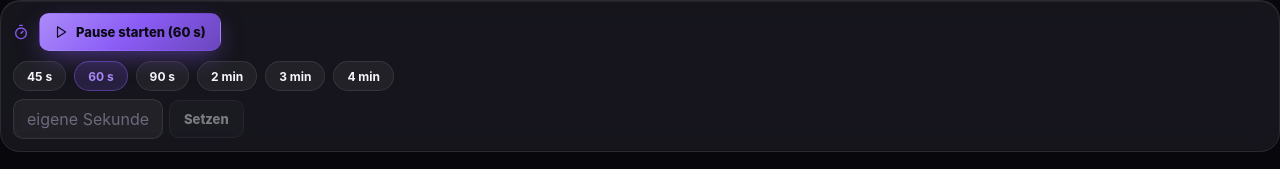
Test: RestTimer — adjustable pauses › can be reset back to idle
The image size is (1280, 169).
Step 1. Click the button "Pause starten (60 s)" → (130, 32), box [39,13,221,51]
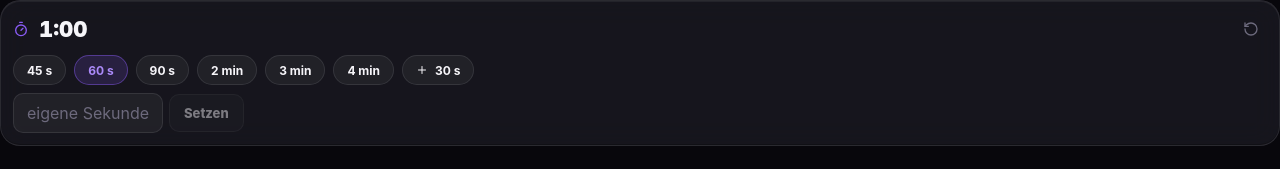
Step 2. Click the button named "Timer zurücksetzen" → (1251, 29), box [1235,13,1267,45]
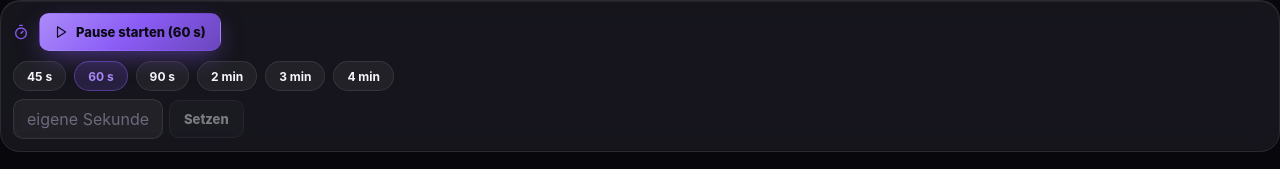
Now the button "Pause starten (60 s)" is shown, box [39,13,221,51]
